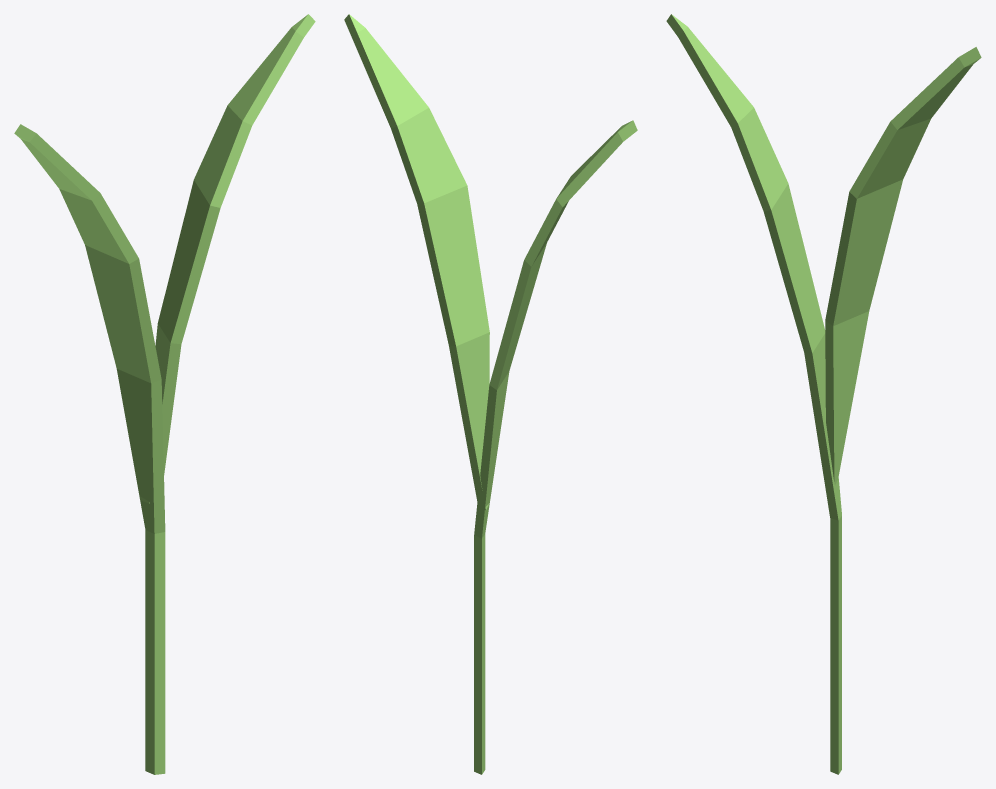
The model's file is corn_1.glb.
The picture shows the model from 3 angles, left to right: view 1: azimuth 30°, elevation 25°; view 2: azimuth 150°, elevation 25°; view 3: azimuth 330°, elevation 25°; orthographic projection. The views are drawn at different scales.
Visible parts, largest first — view 1: Corn_1; view 2: Corn_1; view 3: Corn_1.
Part boxes in pixels (bbox=[...]): Corn_1: bbox=[14, 14, 315, 774]; Corn_1: bbox=[344, 14, 637, 774]; Corn_1: bbox=[666, 14, 981, 774].
Size of the model in its own units: 0.1668 by 0.3874 by 0.0323.
